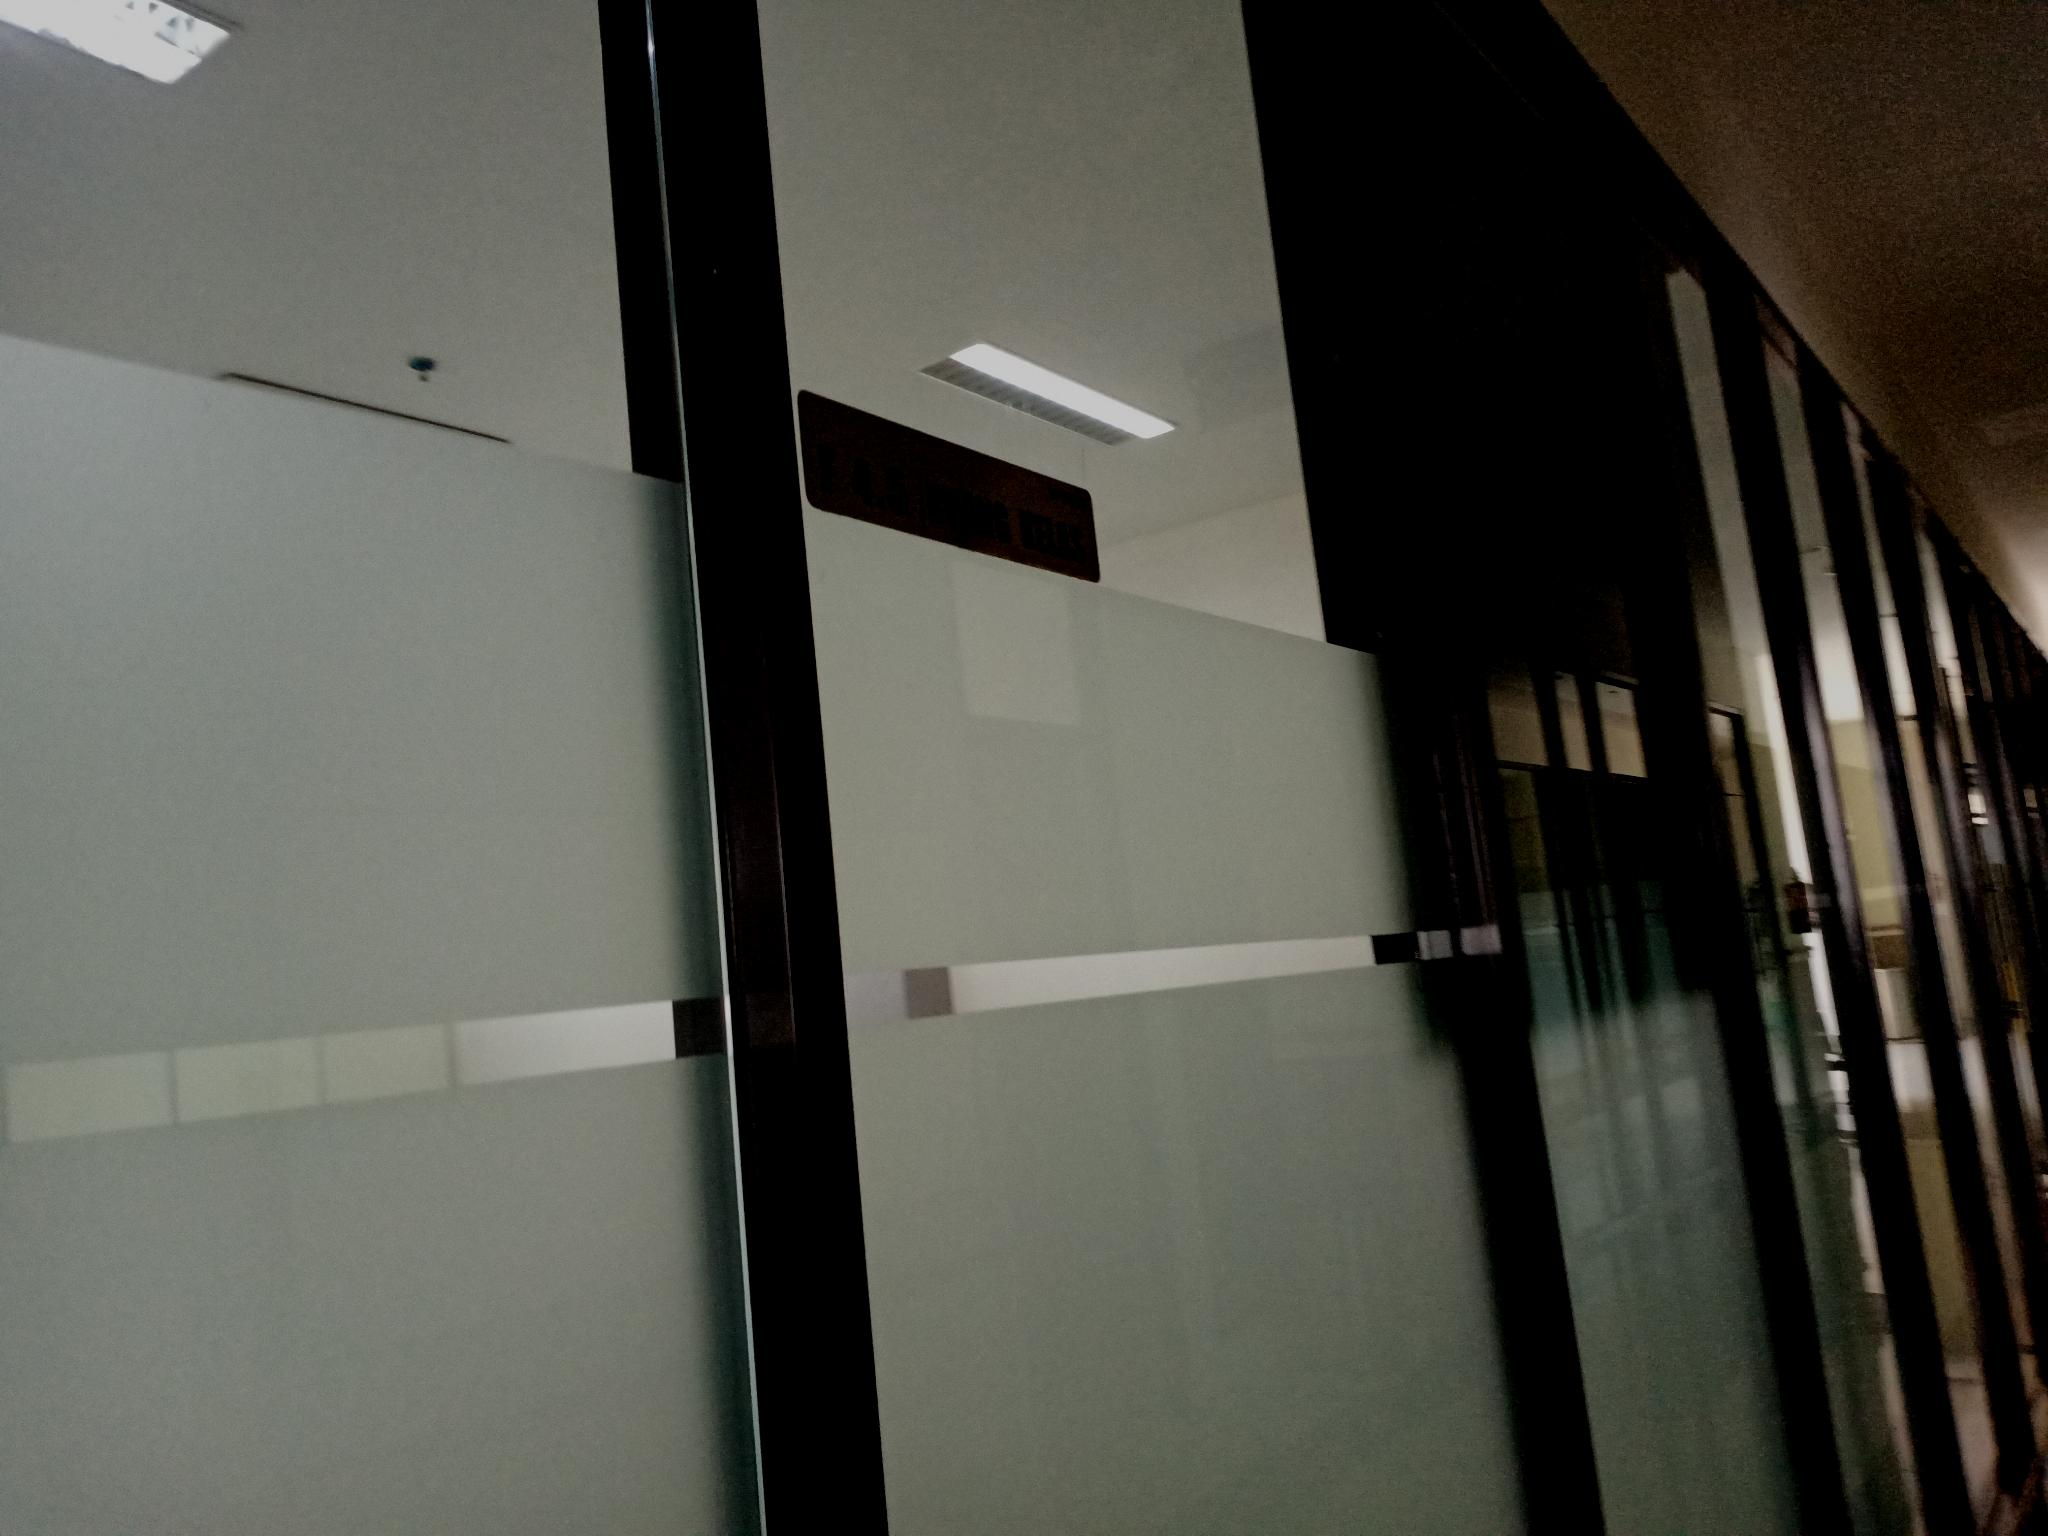plate: (798, 386, 1101, 587)
